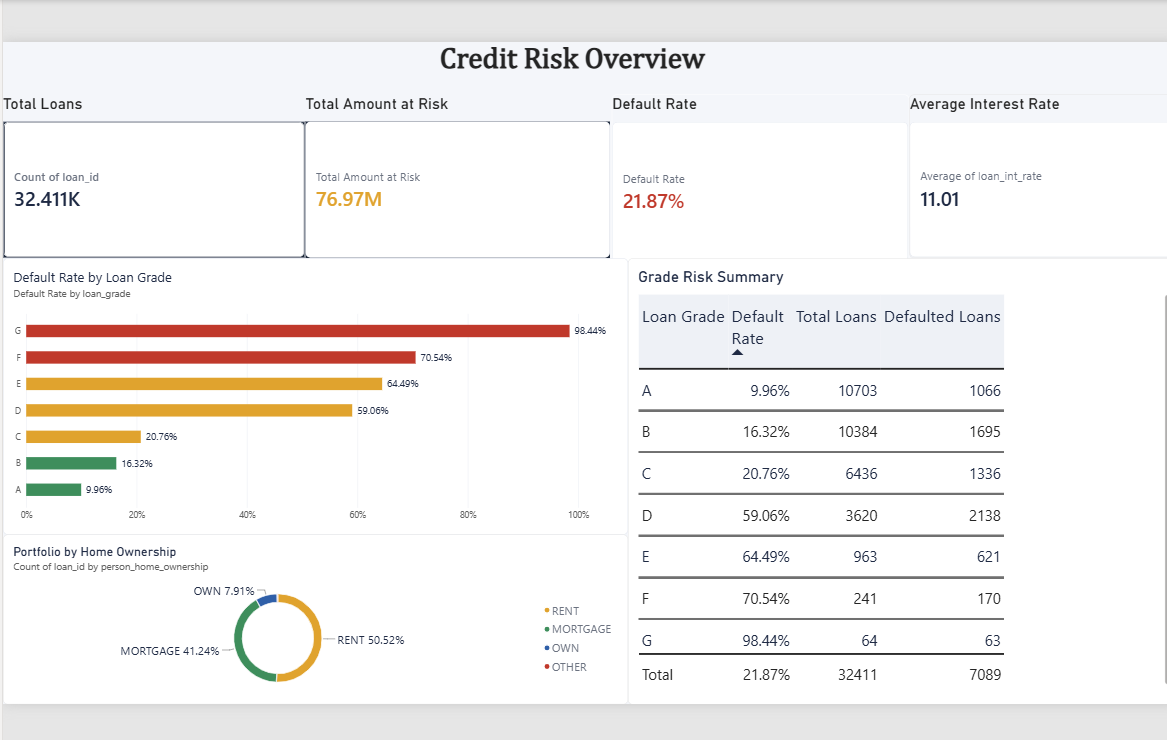

What the dashboard file says about the page in this screenshot:
{"tool":"powerbi","page":{"name":"Credit Risk Overview","canvas":[1920,1080],"ordinal":0},"visuals":[{"type":"cardVisual","title":"Total Loans","fields":{"Data":["CountNonNull(credit_risk loans_cleaned.loan_id)"]},"box":[0,85.5,492.8,266.8],"z":0},{"type":"cardVisual","title":"Total Amount at Risk","fields":{"Data":["credit_risk loans_cleaned.Total Amount at Risk"]},"box":[492.8,85.5,496.9,266.8],"z":1000},{"type":"cardVisual","title":"Default Rate","fields":{"Data":["credit_risk loans_cleaned.Default Rate"]},"box":[991.8,85.5,484.7,274.9],"z":2000},{"type":"cardVisual","title":"Average Interest Rate","fields":{"Data":["Avg(credit_risk loans_cleaned.loan_int_rate)"]},"box":[1476.5,85.5,444,266.8],"z":3000},{"type":"clusteredBarChart","title":"Default Rate by Loan Grade","fields":{"Category":["credit_risk loans_cleaned.loan_grade"],"Y":["credit_risk loans_cleaned.Default Rate"]},"box":[0,352.3,1018.2,450.1],"z":4000},{"type":"donutChart","title":"Portfolio by Home Ownership","fields":{"Category":["credit_risk loans_cleaned.person_home_ownership"],"Y":["CountNonNull(credit_risk loans_cleaned.loan_id)"]},"box":[0,802.4,1018.2,277],"z":5000},{"type":"tableEx","title":"Grade Risk Summary","fields":{"Values":["credit_risk loans_cleaned.loan_grade","credit_risk loans_cleaned.Default Rate","CountNonNull(credit_risk loans_cleaned.loan_id)","Sum(credit_risk loans_cleaned.loan_status)"]},"box":[1018.2,352.3,902.2,727],"z":6000},{"type":"textbox","box":[99.8,0,1655.7,85.5],"z":6001}]}

Visuals, with their boxes on the page's 1920x1080 design canvas (x1, y1, x2, y2). These are canvas units, not pixel positions in the 1167x740 screenshot, which may show the page scaled, cropped or inside an application window:
"Total Loans" cardVisual: (left=0, top=86, right=493, bottom=352)
"Total Amount at Risk" cardVisual: (left=493, top=86, right=990, bottom=352)
"Default Rate" cardVisual: (left=992, top=86, right=1476, bottom=360)
"Average Interest Rate" cardVisual: (left=1476, top=86, right=1920, bottom=352)
"Default Rate by Loan Grade" clusteredBarChart: (left=0, top=352, right=1018, bottom=802)
"Portfolio by Home Ownership" donutChart: (left=0, top=802, right=1018, bottom=1079)
"Grade Risk Summary" tableEx: (left=1018, top=352, right=1920, bottom=1079)
textbox: (left=100, top=0, right=1756, bottom=86)
